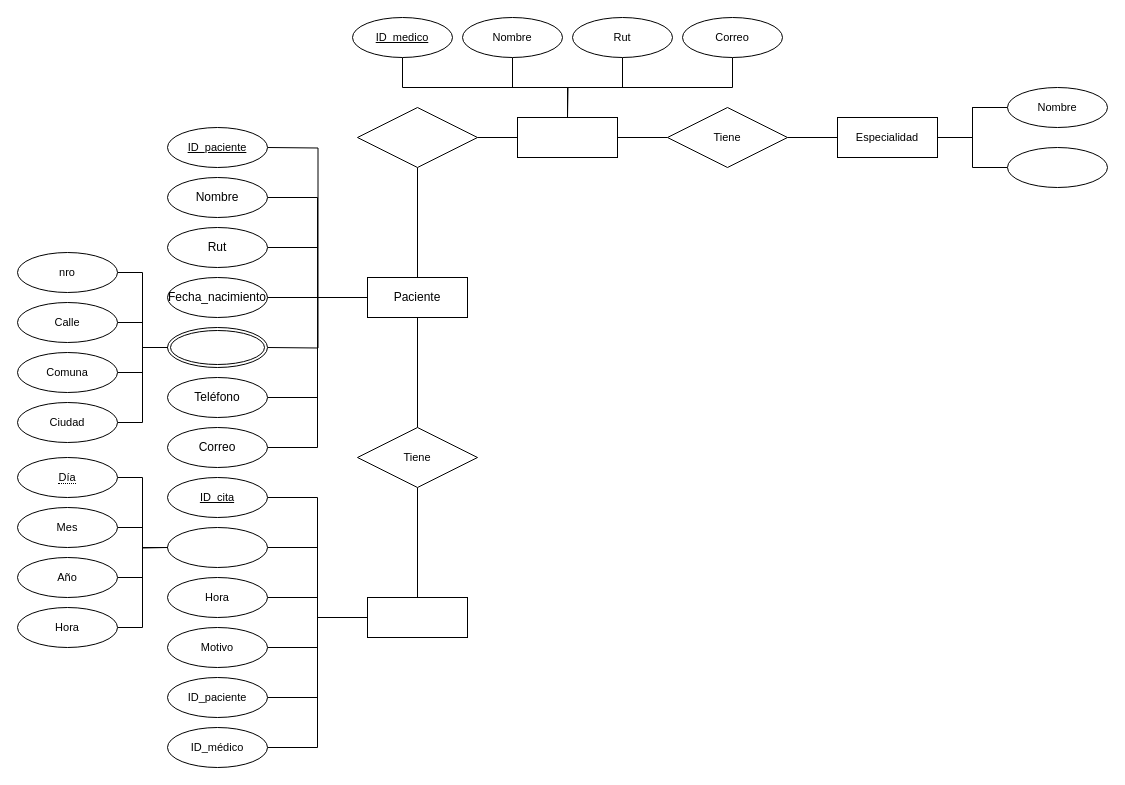
The diagram is 1125 pixels wide and 785 high, and some of its shapes have lost their labels. The shapes that lost their labels are listed below. From the top down, each one's box as (x1, y1, x2, y2) in pixels, then its label:
(356, 106, 478, 168): Atiende
(516, 116, 618, 158): Médico
(1006, 146, 1108, 188): ID_especialidad
(166, 326, 268, 368): Dirección
(166, 526, 268, 568): Fecha
(366, 596, 468, 638): Cita_médica
